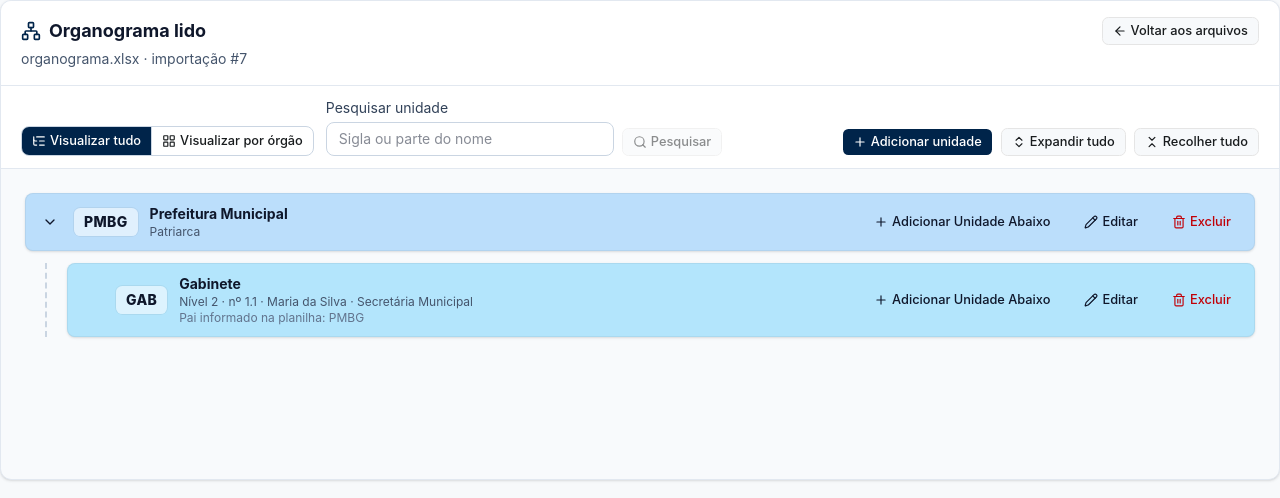
Test: visualização hierárquica do organograma › renderiza dados reais e permite recolher e expandir os ramos
Expected: the text "Prefeitura Municipal" is shown, [150,205,288,222]
Expected: the text "Patriarca" is shown, [150,224,200,239]
Click the button "Recolher tudo". click: click(1196, 142)
box: [1134,128,1259,156]
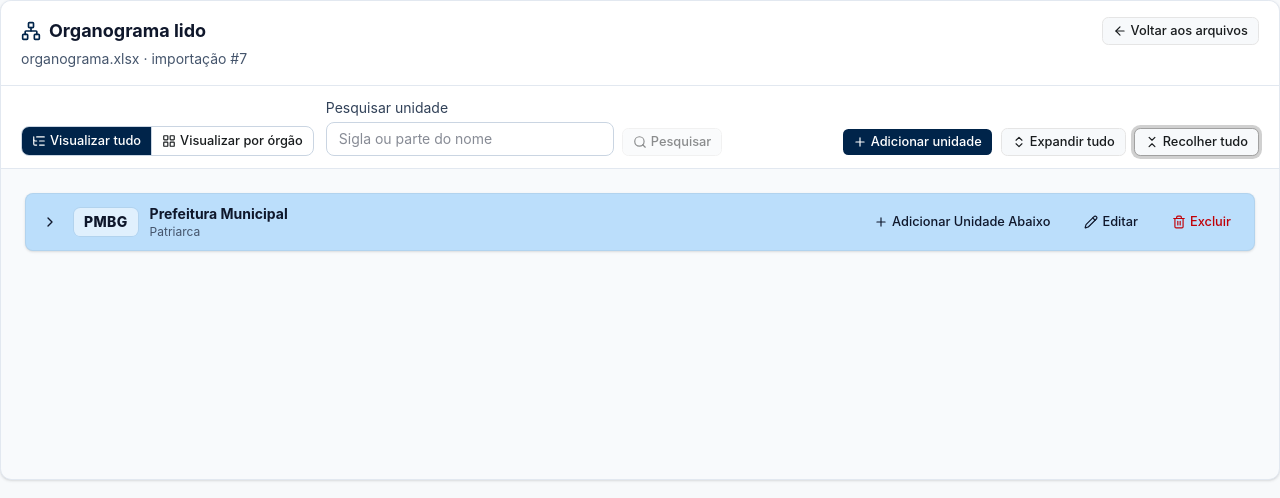
Expected: the text "Gabinete" is gone
Click the button "Expandir tudo". click: click(1063, 142)
box: [1001,128,1126,156]
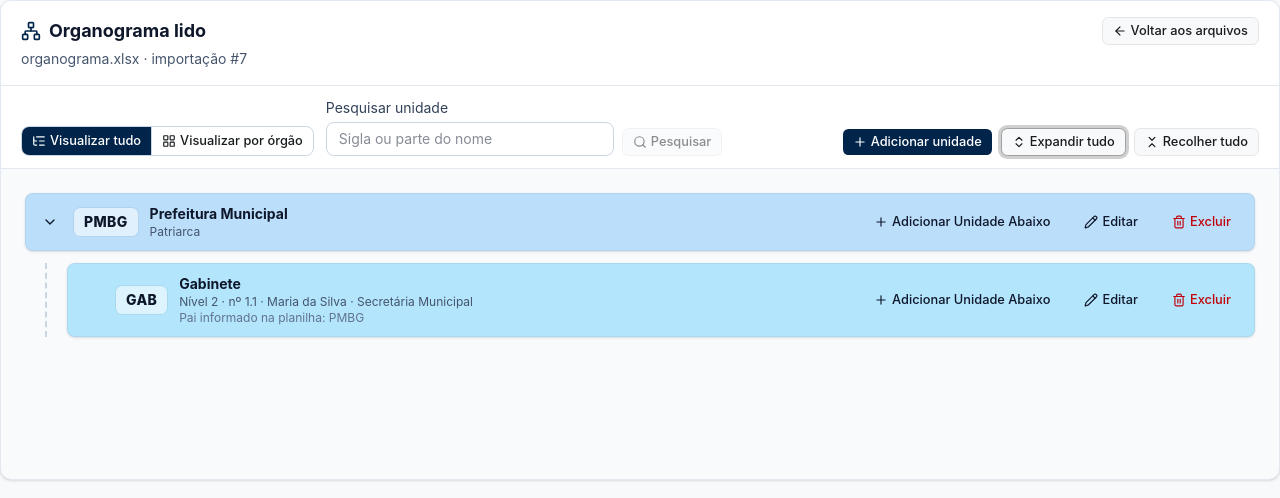
Expected: the text "Gabinete" is shown, [179,275,241,292]
